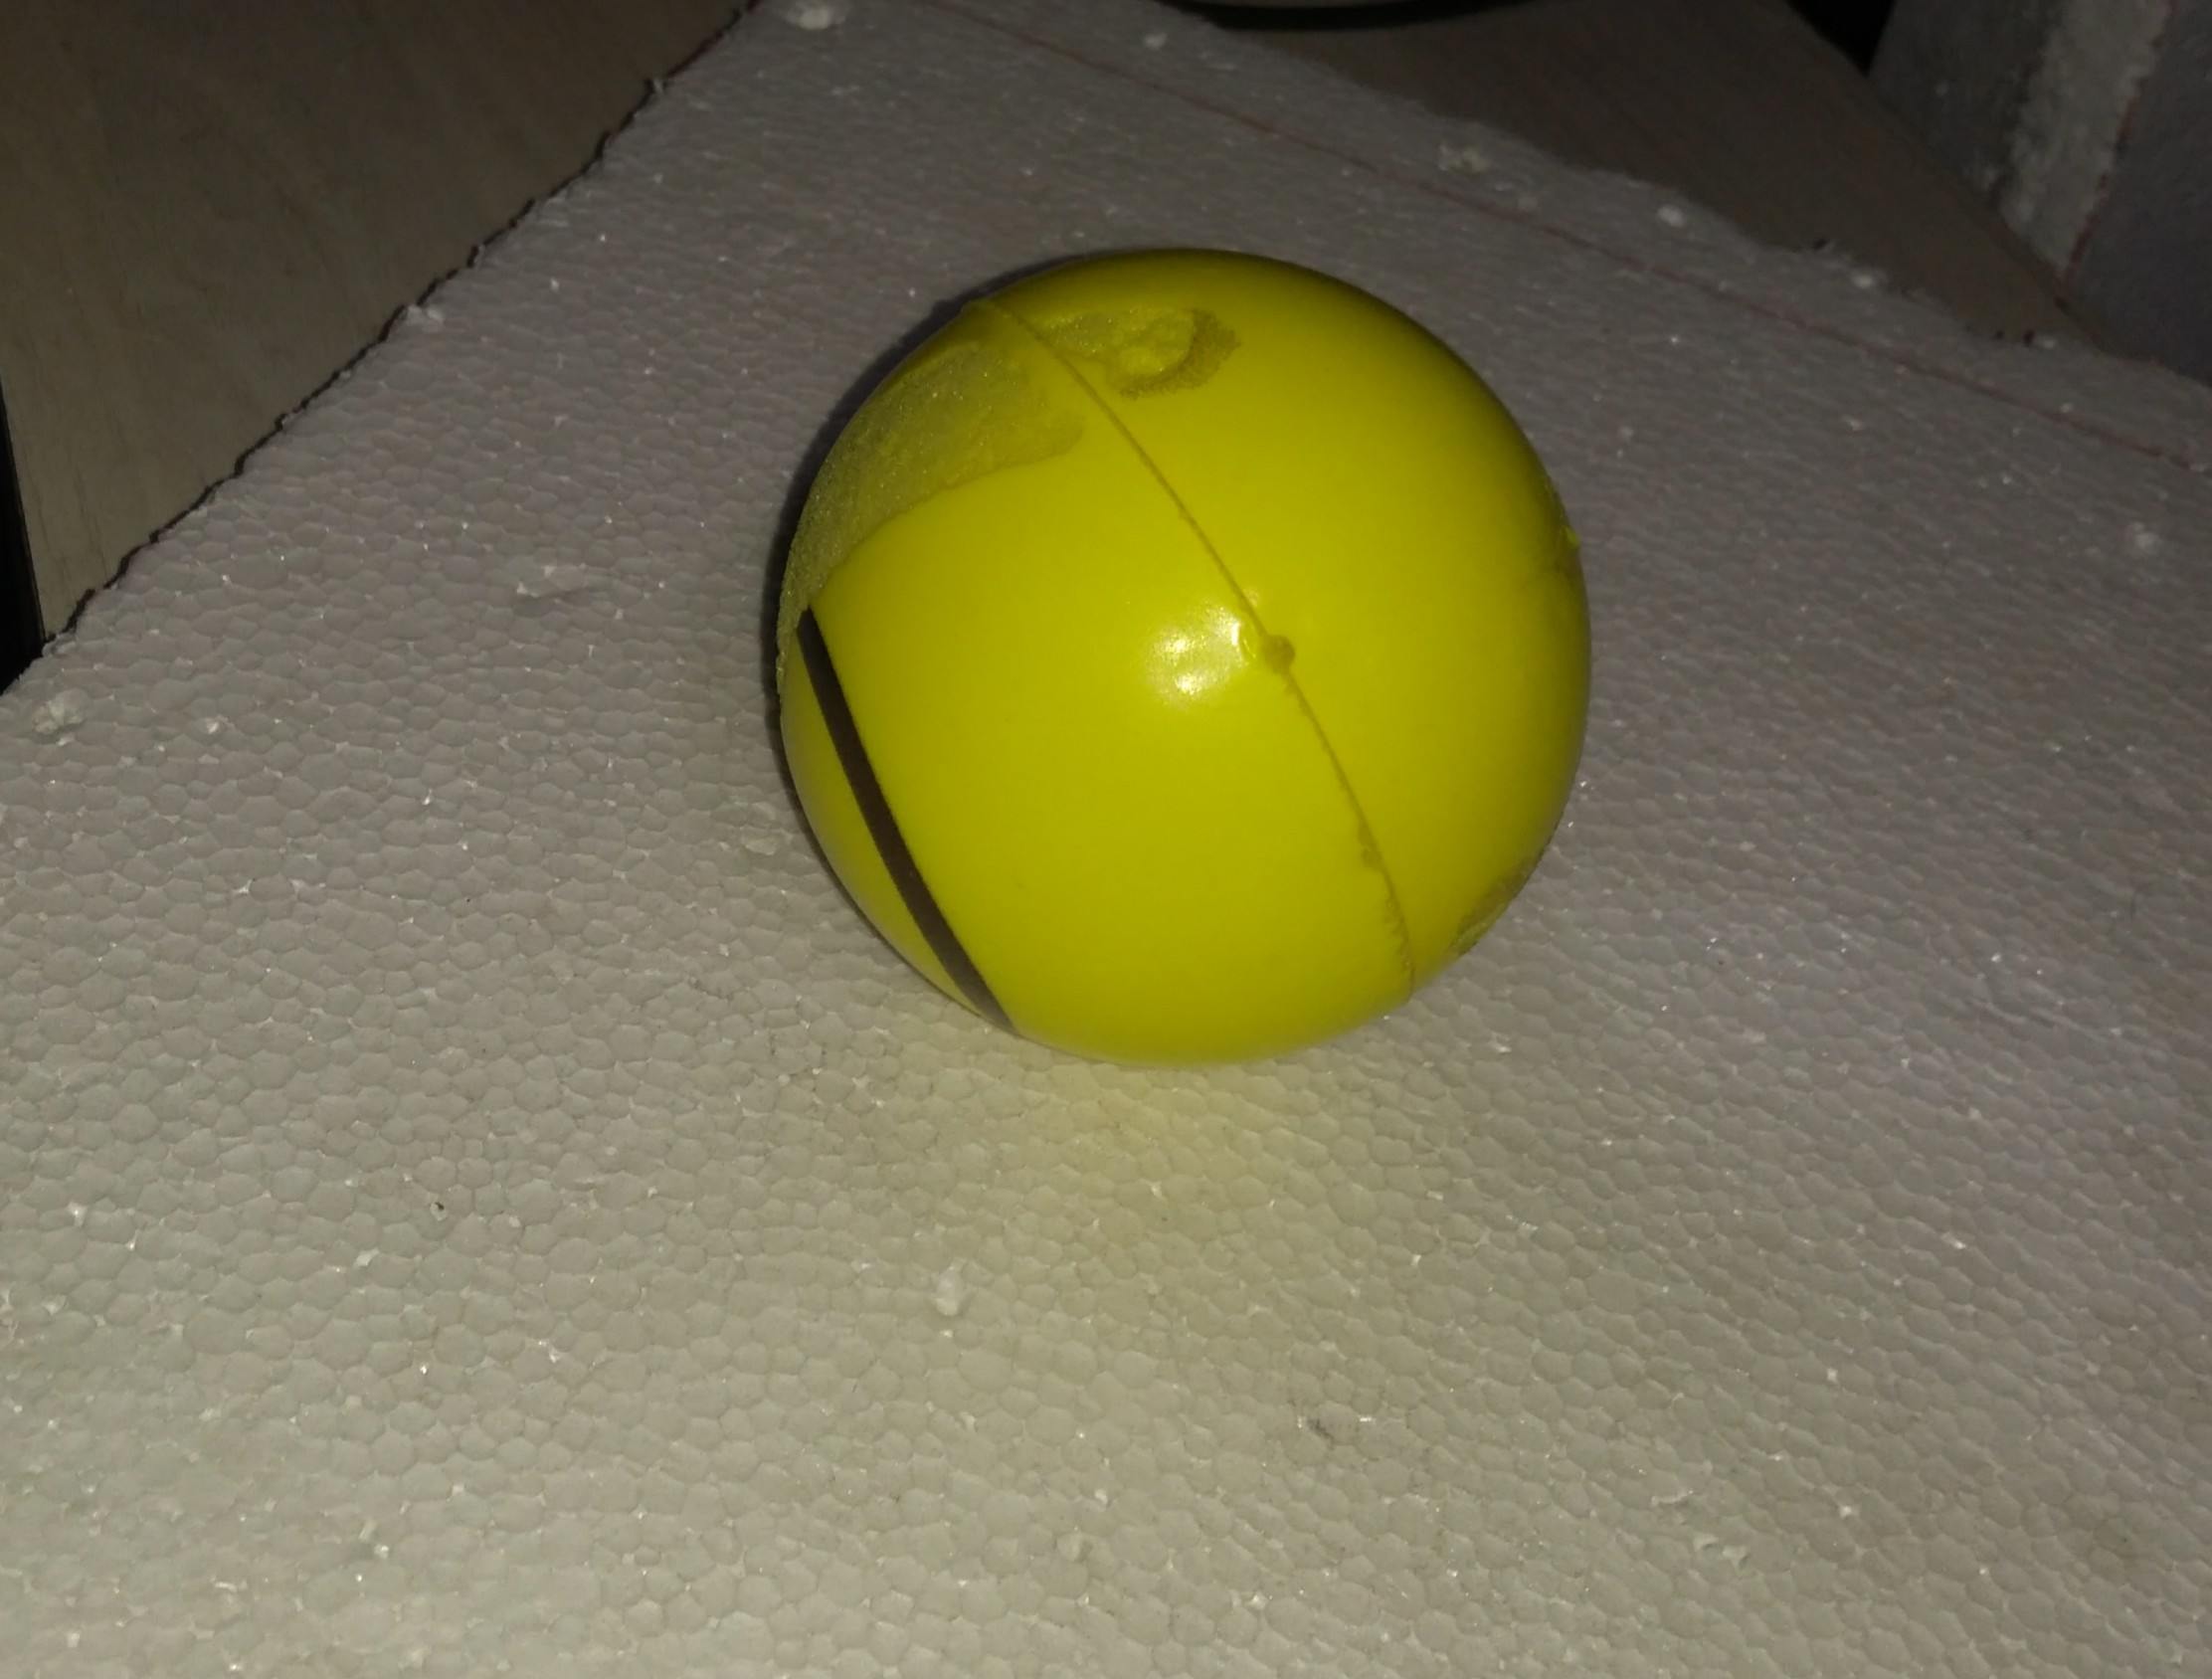ball: (757, 249, 1609, 1085)
